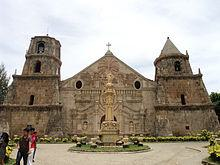Miagao Church: (2, 33, 220, 138)
